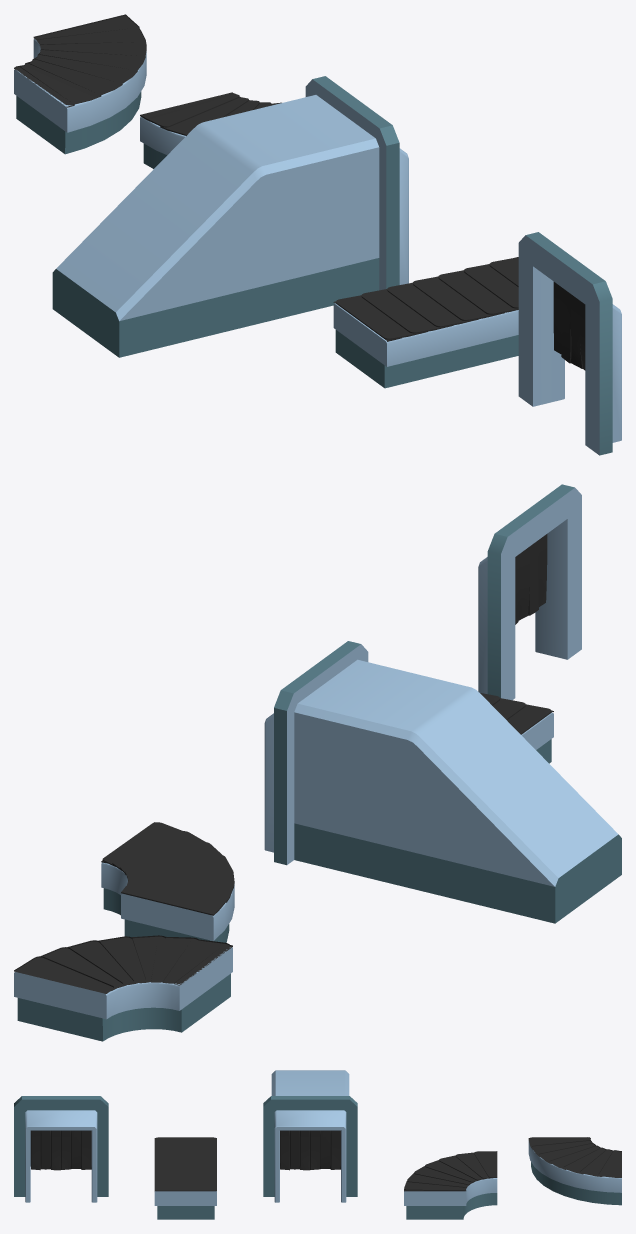
File: Airport_BaggageClaimBand.fbx
The picture shows the model from 3 angles, top to bottom: view 1: azimuth 30°, elevation 25°; view 2: azimuth 150°, elevation 25°; view 3: azimuth 270°, elevation 25°; orthographic projection. The views are drawn at different scales.
Visible parts, largest first — view 1: 12.3.BaggageClaimBand, 12.2.BaggageClaimBand, 12.1.BaggageClaimBand, 12.5.BaggageClaimBand, 12.4.BaggageClaimBand; view 2: 12.3.BaggageClaimBand, 12.5.BaggageClaimBand, 12.1.BaggageClaimBand, 12.4.BaggageClaimBand, 12.2.BaggageClaimBand; view 3: 12.3.BaggageClaimBand, 12.1.BaggageClaimBand, 12.4.BaggageClaimBand, 12.5.BaggageClaimBand, 12.2.BaggageClaimBand.
Part boxes in pixels (x1,y1,x2,y2): 12.3.BaggageClaimBand: [52, 76, 408, 357]; 12.2.BaggageClaimBand: [333, 257, 518, 388]; 12.1.BaggageClaimBand: [518, 232, 621, 455]; 12.5.BaggageClaimBand: [14, 14, 146, 154]; 12.4.BaggageClaimBand: [140, 92, 281, 168]; 12.3.BaggageClaimBand: [264, 641, 621, 923]; 12.5.BaggageClaimBand: [14, 935, 232, 1041]; 12.1.BaggageClaimBand: [478, 484, 581, 700]; 12.4.BaggageClaimBand: [101, 822, 234, 942]; 12.2.BaggageClaimBand: [480, 693, 553, 763]; 12.3.BaggageClaimBand: [263, 1070, 357, 1202]; 12.1.BaggageClaimBand: [14, 1096, 108, 1202]; 12.4.BaggageClaimBand: [404, 1151, 497, 1219]; 12.5.BaggageClaimBand: [528, 1137, 621, 1205]; 12.2.BaggageClaimBand: [154, 1137, 216, 1219].
Size of what is drawn, in the model's own units: 669 by 301 by 1708.
1 material, 1 textured.
